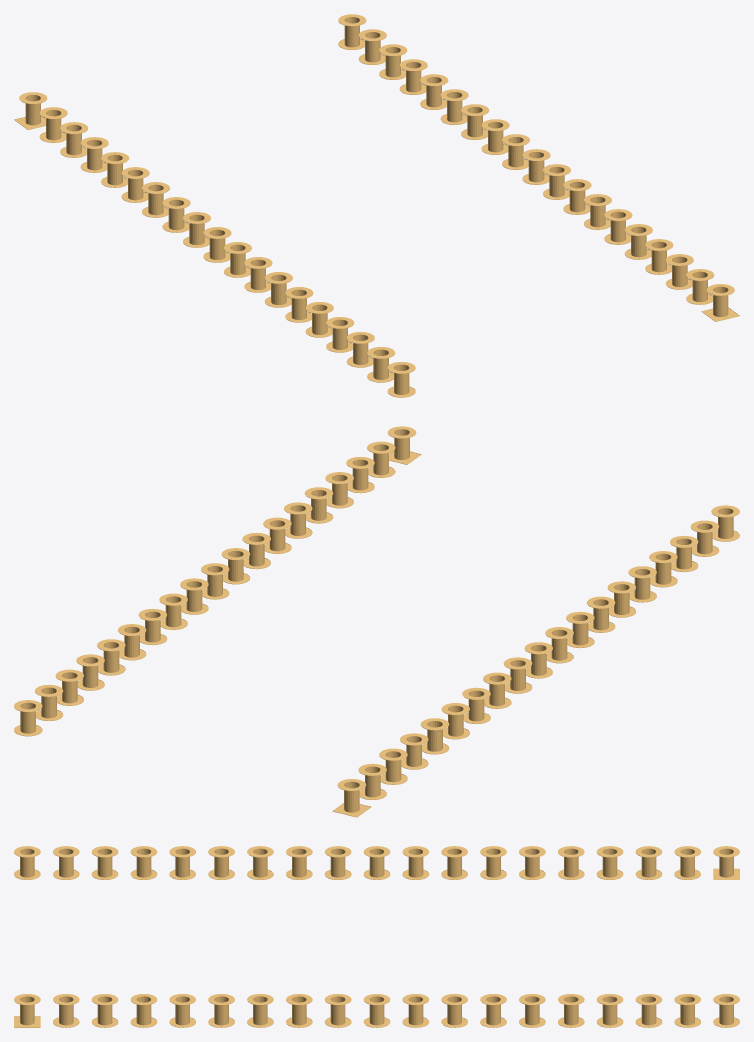
File: zatana_terra_base_vis_86.dae
The picture shows the model from 3 angles, top to bottom: view 1: azimuth 30°, elevation 25°; view 2: azimuth 150°, elevation 25°; view 3: azimuth 270°, elevation 25°; orthographic projection. The views are drawn at different scales.
Parts seen in each view (by area): view 1: Node_000002318374B5A0; view 2: Node_000002318374B5A0; view 3: Node_000002318374B5A0.
Part boxes in pixels (x1,y1,x2,y2): Node_000002318374B5A0: (14,14,739,397); Node_000002318374B5A0: (14,426,739,817); Node_000002318374B5A0: (14,846,739,1027).
Size of the model in its own units: 0.0246 by 0.00164 by 0.0475.
